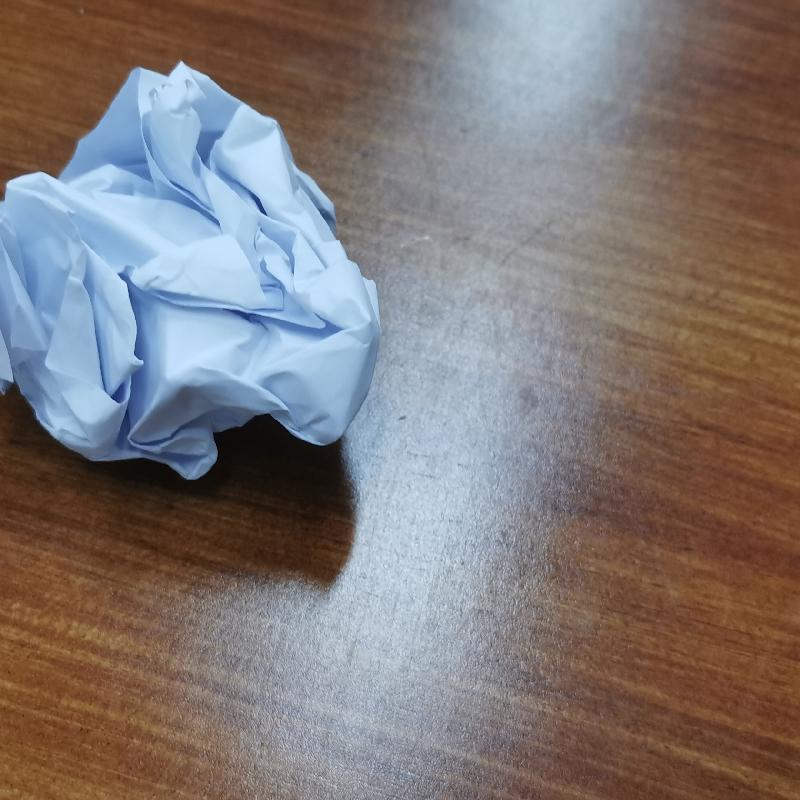spitball: (0, 55, 386, 490)
